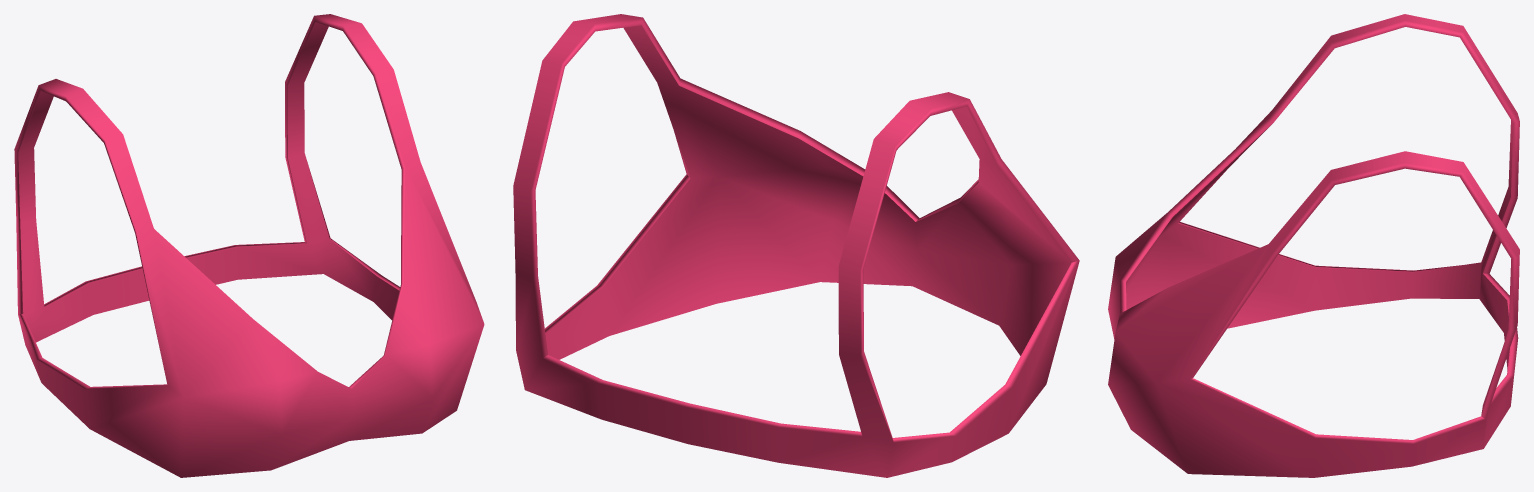
The model's file is WomenV1bikini_T.fbx.
3 views of the same model, side by side, from view 1: azimuth 30°, elevation 25°; view 2: azimuth 150°, elevation 25°; view 3: azimuth 270°, elevation 25° (orthographic). The views are drawn at different scales.
Visible parts, largest first — view 1: _F_Bikini_T; view 2: _F_Bikini_T; view 3: _F_Bikini_T.
Boxes of the visible parts, box(x1,y1,x2,y2) form: _F_Bikini_T: box(14, 14, 484, 477); _F_Bikini_T: box(513, 14, 1079, 477); _F_Bikini_T: box(1108, 14, 1519, 477).
Bounding box in the file's own units: 28.77 × 24.66 × 28.86.
